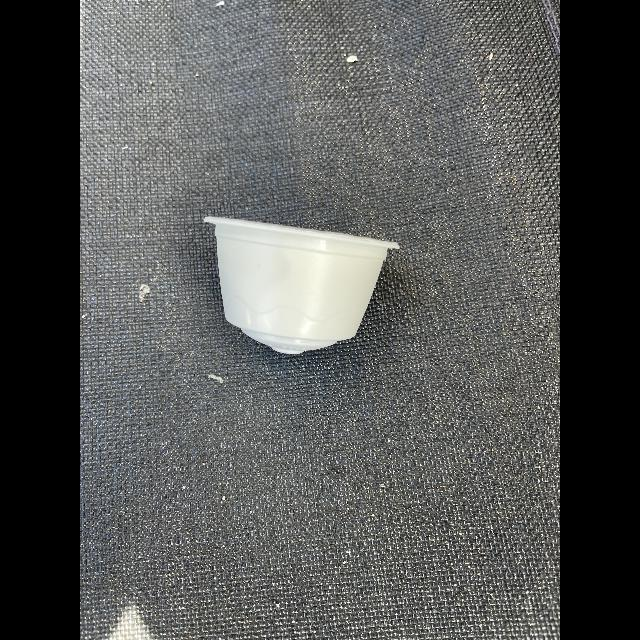intact_capsule: (196, 206, 404, 378)
